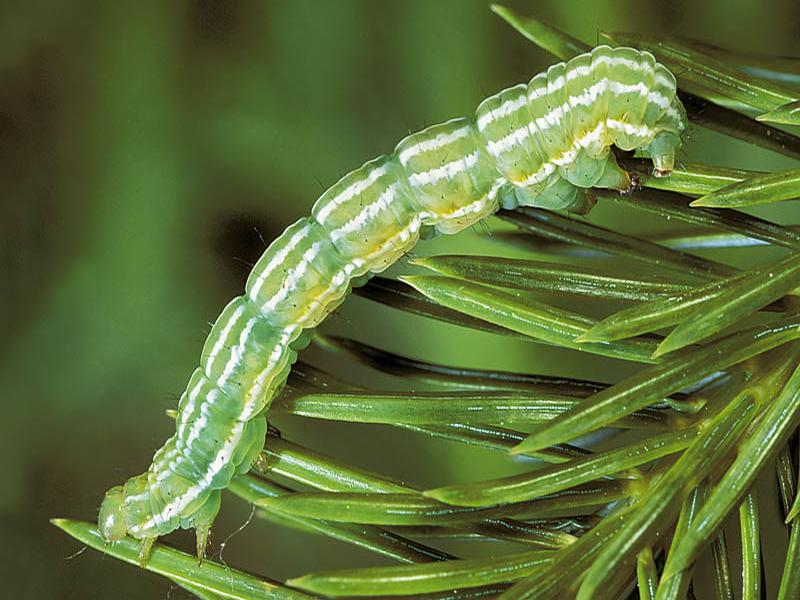Rice_case_worm: (68, 43, 696, 543)
